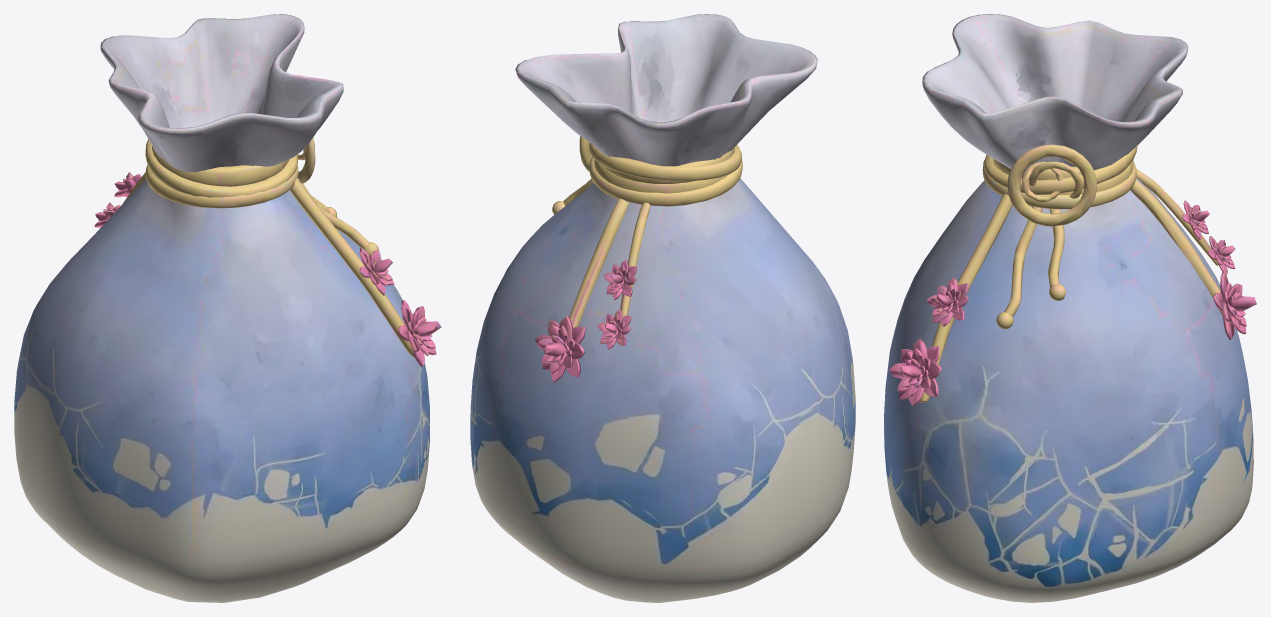
Rendered from bag_lowPolyCompressed.glb.
The picture shows the model from 3 angles, left to right: view 1: azimuth 30°, elevation 25°; view 2: azimuth 150°, elevation 25°; view 3: azimuth 270°, elevation 25°; orthographic projection.
Parts seen in each view (by area): view 1: polySurface249.001; view 2: polySurface249.001; view 3: polySurface249.001.
Boxes of the visible parts, box(x1,y1,x2,y2) form: polySurface249.001: box(14, 14, 441, 602); polySurface249.001: box(470, 14, 855, 602); polySurface249.001: box(884, 14, 1256, 602).
Bounding box in the file's own units: 0.7827 × 1.12 × 0.7405.
Materials: 1 (1 with a texture image).
